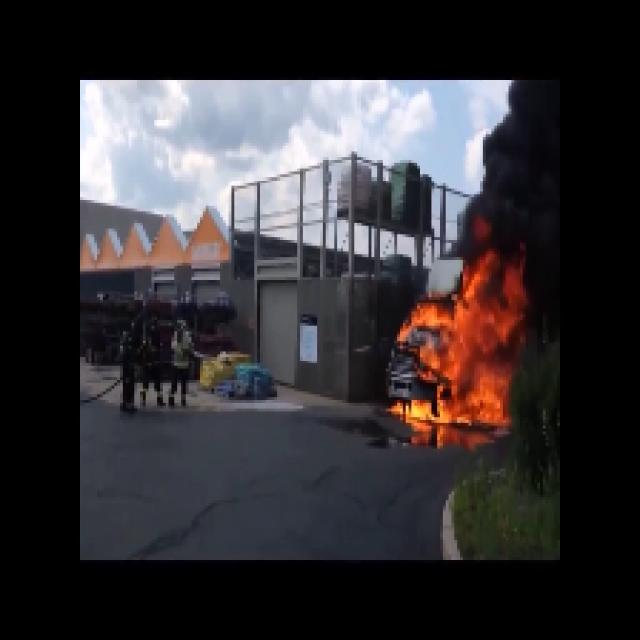fire: (407, 282, 515, 435)
smoke: (488, 88, 556, 270)
